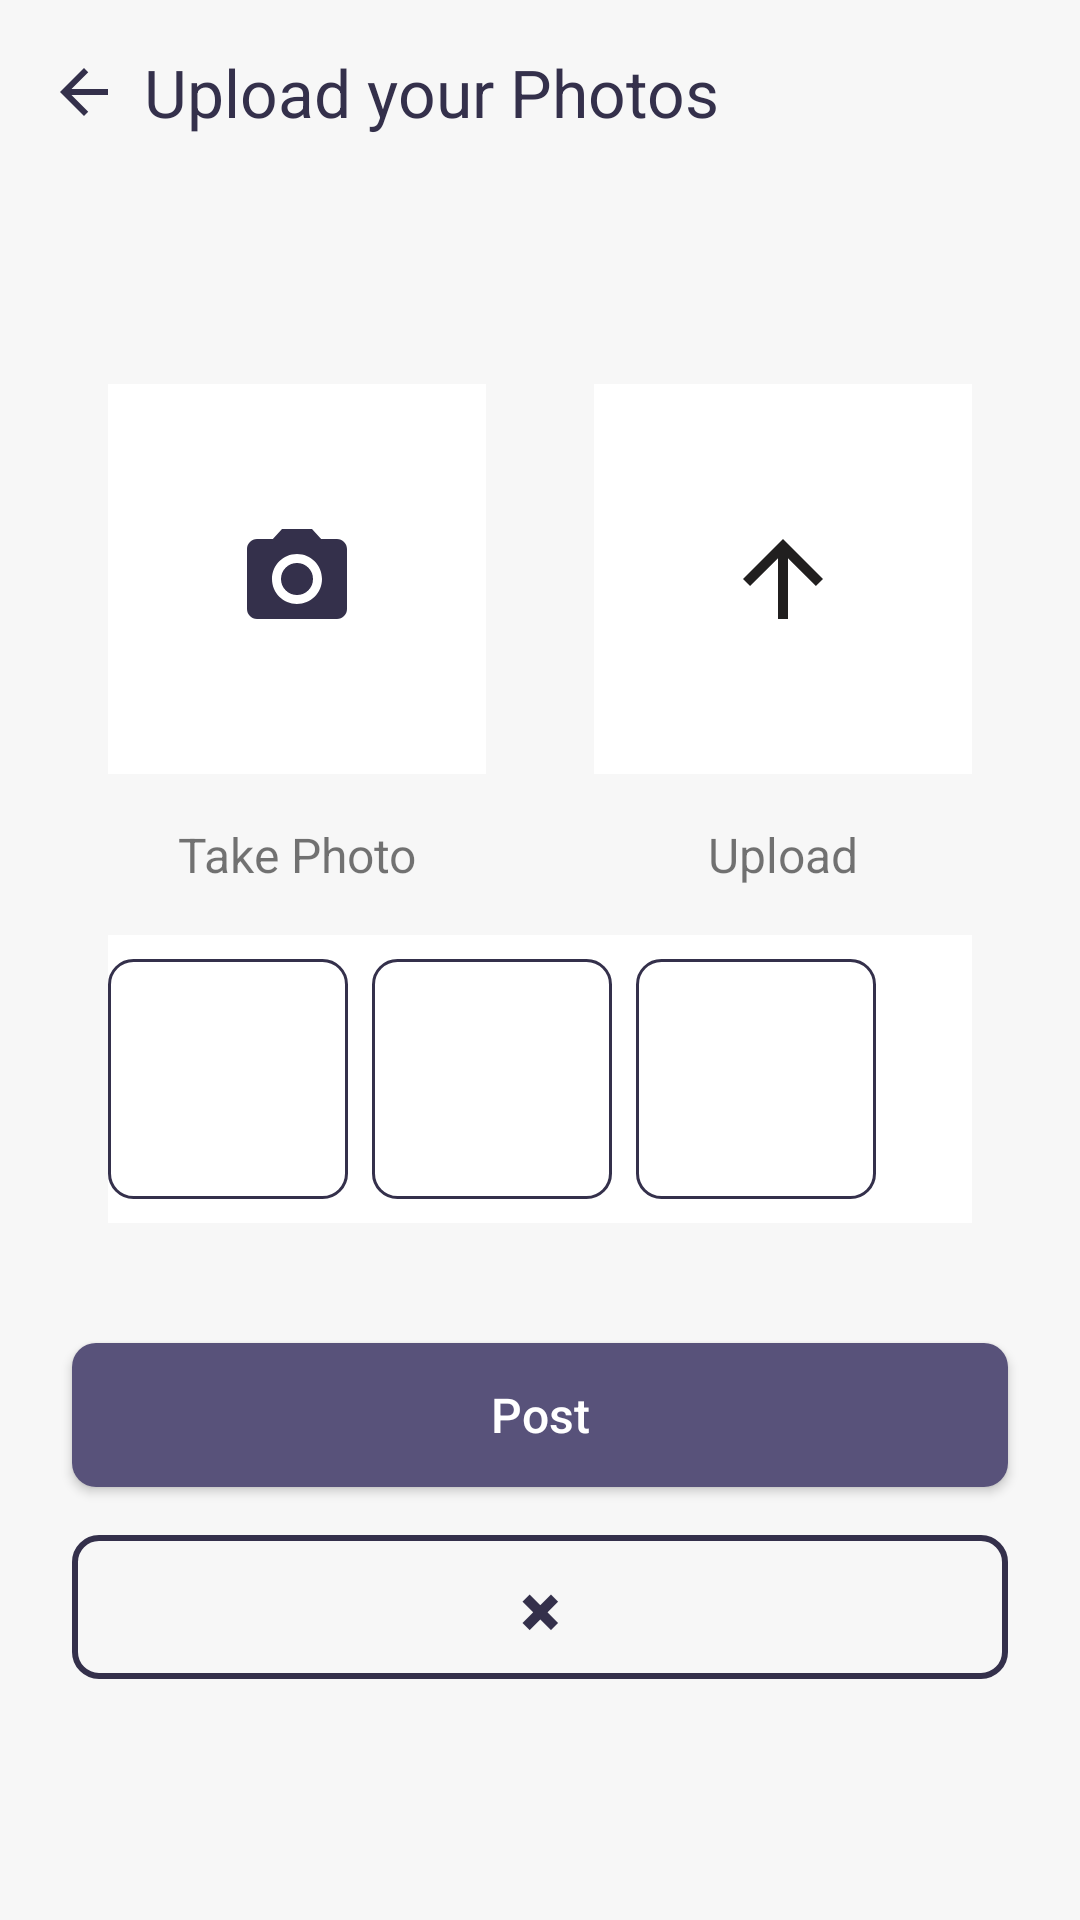

Where to tap for icons on this 1080px×1920px app screen, as [x,y]:
Take Photo: [297,574]
Upload: [783,579]
